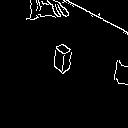cube: (46, 36, 87, 78), (110, 54, 128, 106)
